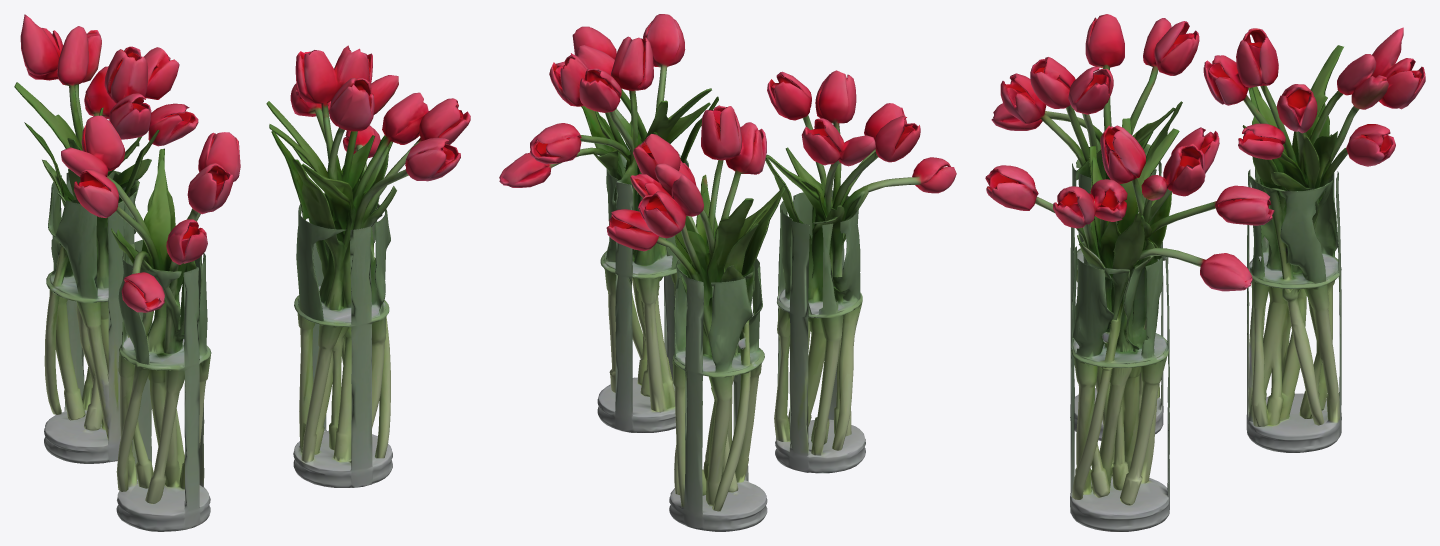
File: decor-tulips-pink.glb
The picture shows the model from 3 angles, left to right: view 1: azimuth 30°, elevation 25°; view 2: azimuth 150°, elevation 25°; view 3: azimuth 270°, elevation 25°; orthographic projection. The views are drawn at different scales.
Parts seen in each view (by area): view 1: tripo_node_2437caf3-7588-44da-b2ae-d059dd32b004; view 2: tripo_node_2437caf3-7588-44da-b2ae-d059dd32b004; view 3: tripo_node_2437caf3-7588-44da-b2ae-d059dd32b004.
Part boxes in pixels (x1,y1,x2,y2): tripo_node_2437caf3-7588-44da-b2ae-d059dd32b004: (14, 14, 470, 531); tripo_node_2437caf3-7588-44da-b2ae-d059dd32b004: (499, 14, 956, 531); tripo_node_2437caf3-7588-44da-b2ae-d059dd32b004: (985, 14, 1425, 531).
Bounding box in the file's own units: 0.3873 × 0.4 × 0.3906.
1 material, 1 textured.
